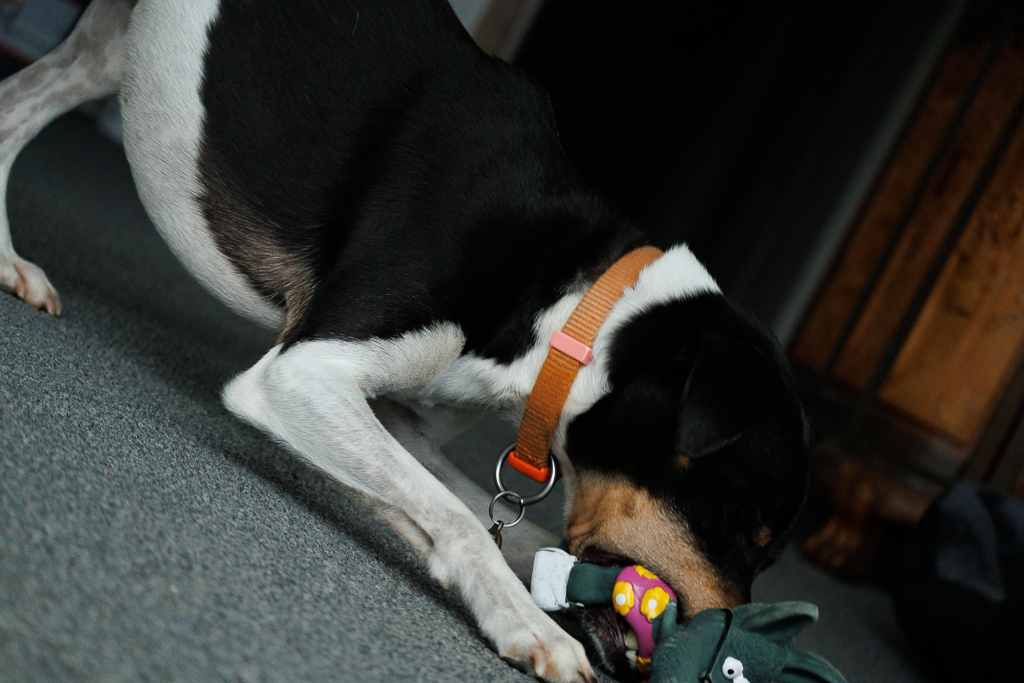Dog: (0, 0, 859, 683)
Humanoid: (510, 537, 856, 683)
